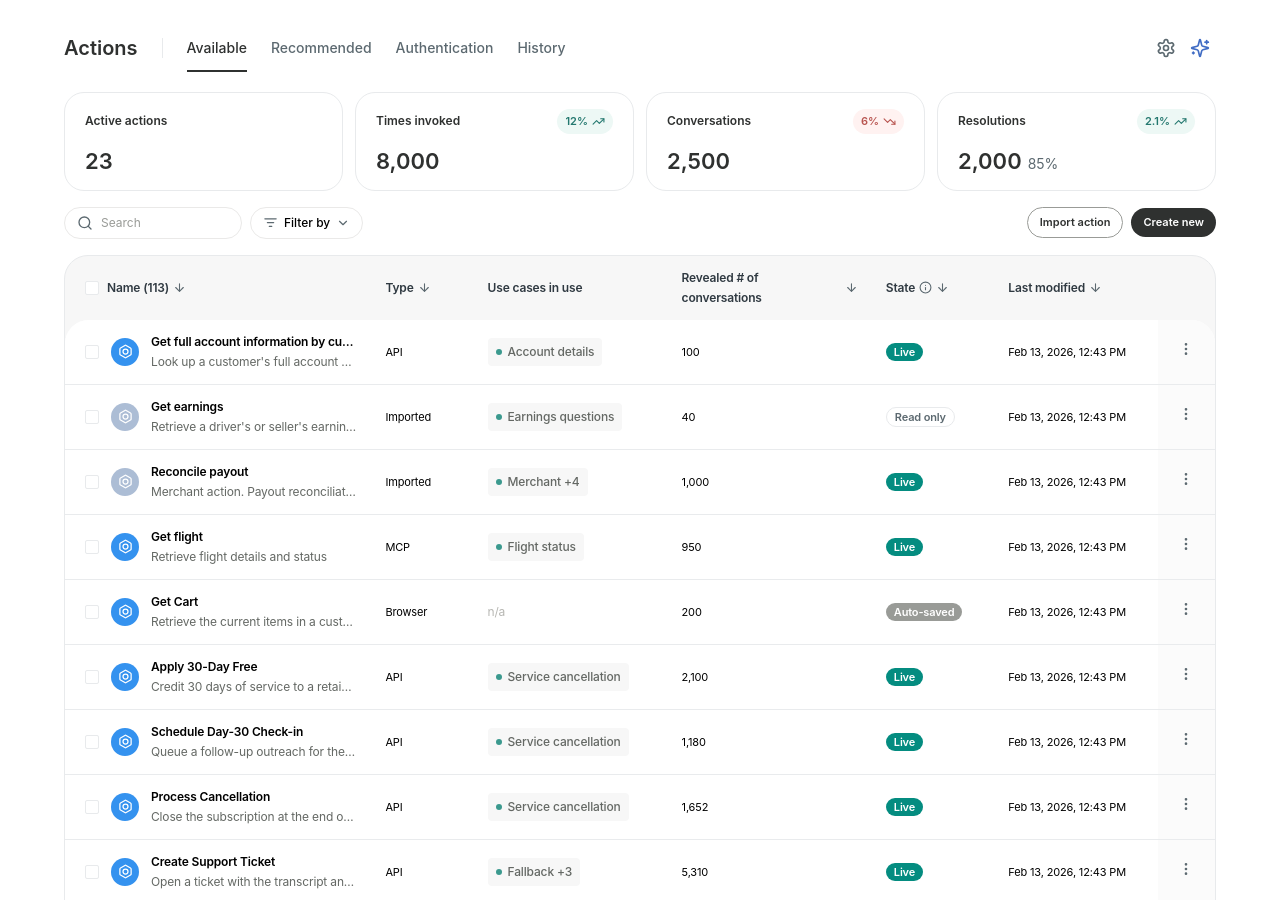
Scenario: per-screen header AI triggers (route-derived scope) › opens the scoped assistant from /agent-builder/actions header
The image size is (1280, 900).
What coordinates should you click on to do the following:
click the button named "Ask AI about this page"
I would click on:
 (1200, 48)
Its box is [1184, 32, 1216, 64].
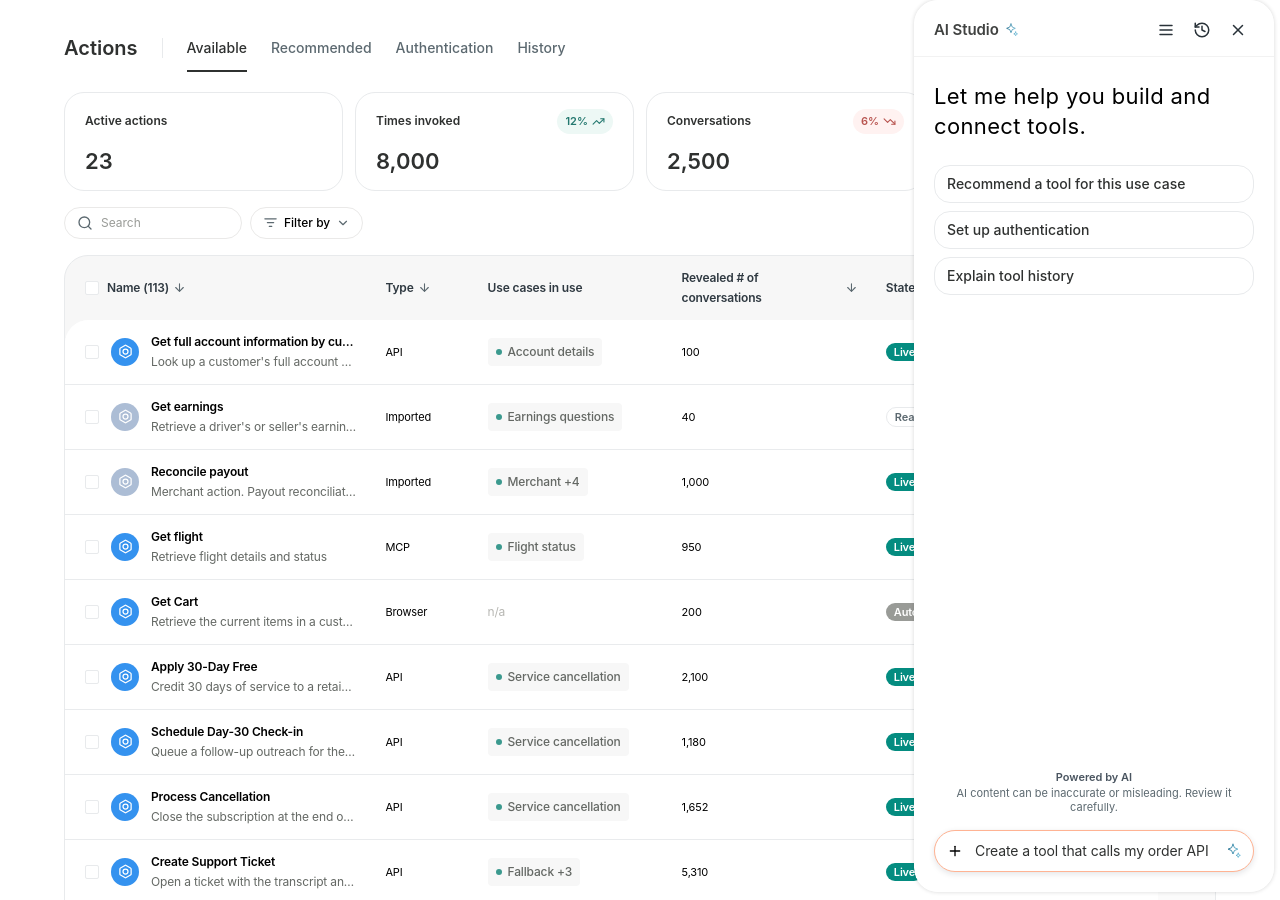
Now the element with test id "ai-studio-panel" is shown, box [914, 0, 1274, 892]
Now the text "Let me help you build and connect tools." is shown, box [934, 81, 1254, 141]
